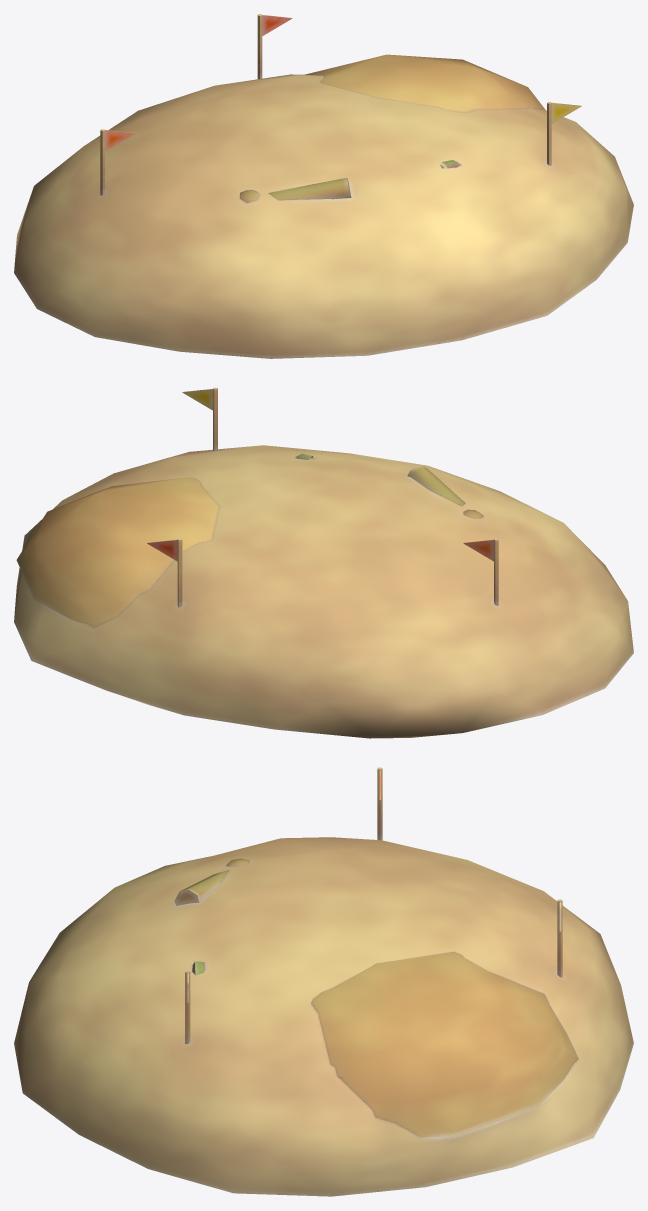
The model's file is node_big_sand.glb.
The picture shows the model from 3 angles, top to bottom: view 1: azimuth 30°, elevation 25°; view 2: azimuth 150°, elevation 25°; view 3: azimuth 270°, elevation 25°; orthographic projection. The views are drawn at different scales.
Visible parts, largest first — view 1: SM_NodeBigSand; view 2: SM_NodeBigSand; view 3: SM_NodeBigSand.
Boxes of the visible parts, x1,y1,x2,y2 form: SM_NodeBigSand: [14, 14, 633, 358]; SM_NodeBigSand: [14, 387, 633, 738]; SM_NodeBigSand: [14, 767, 633, 1196].
Size of the model in its own units: 3.09 by 0.8 by 2.58.
Materials: 1 (1 with a texture image).
